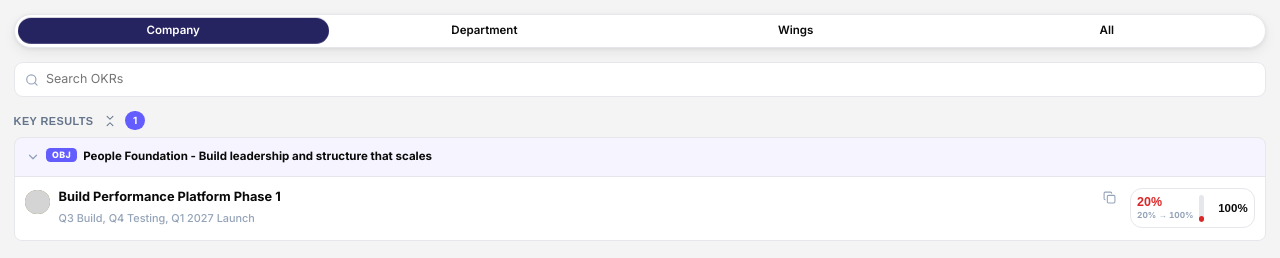
Scenario: GoalOkrReferenceList › copies an OKR title without collapsing the search
Click the button "Wings": {"x": 796, "y": 31} [640, 18, 951, 44]
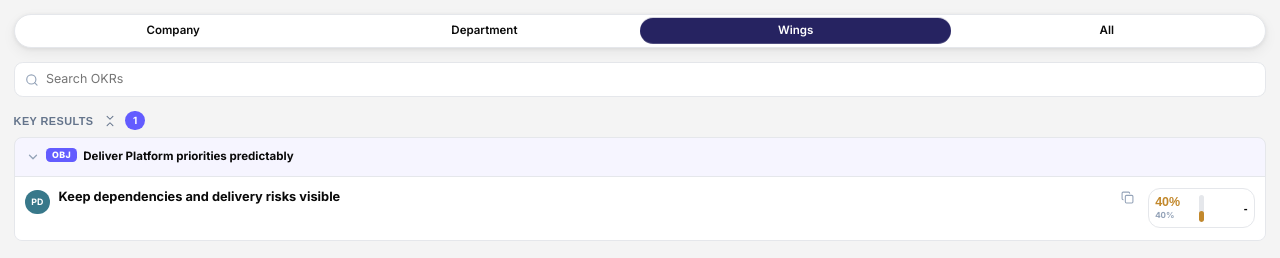
Click the button named "Copy Keep dependencies and delivery risks visible": {"x": 1128, "y": 198} [1117, 186, 1139, 209]
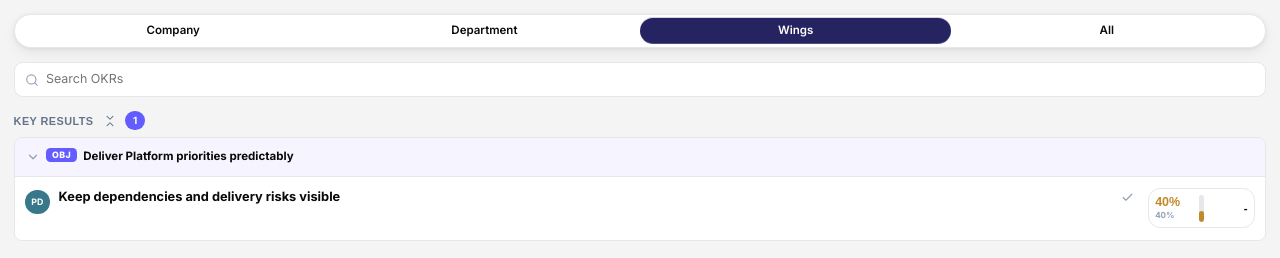
Expected: the button named "Copied" is shown, [1117, 186, 1139, 209]
